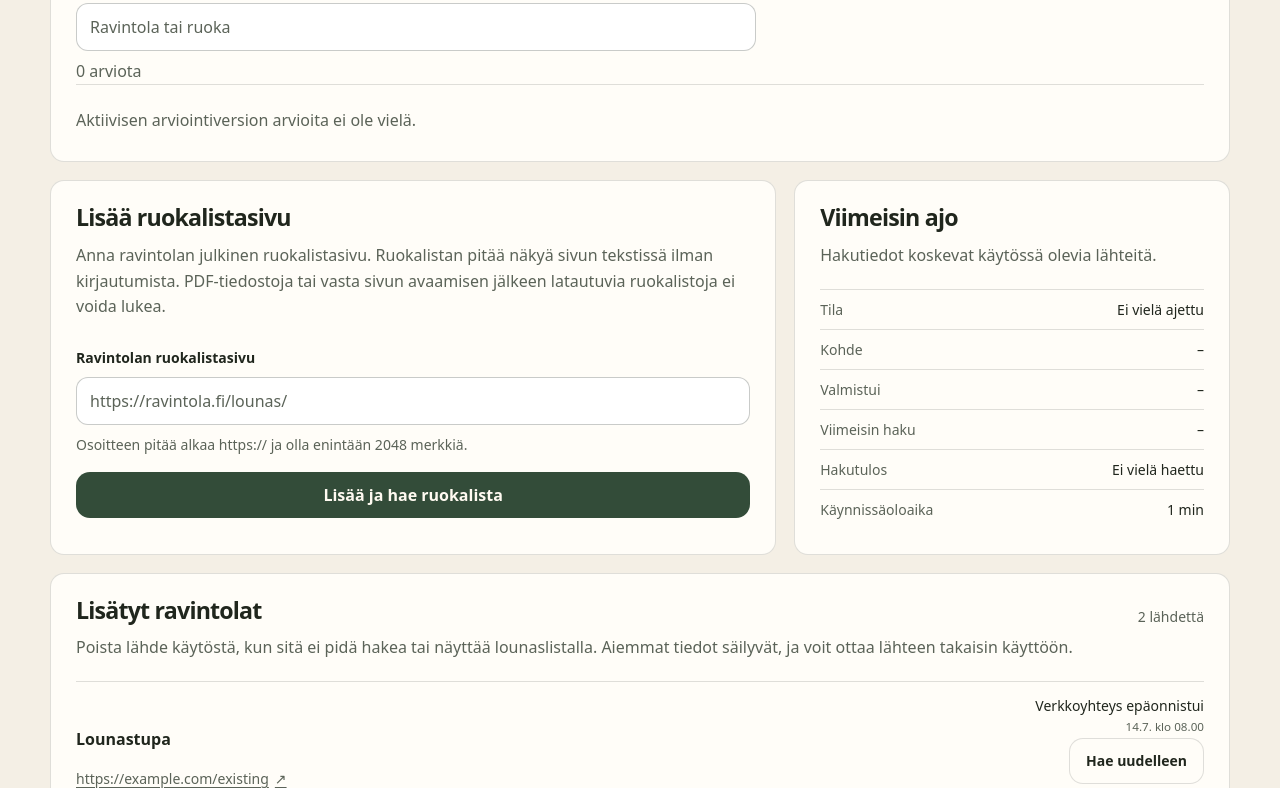
Scenario: admin recovery › retries a source in place without duplicate requests or losing an unrelated draft
(page scrolled)
Type "https://example.com/new-draft" into the field labelled "Ravintolan ruokalistasivu" at coordinates (413, 401), box [76,377,750,425]
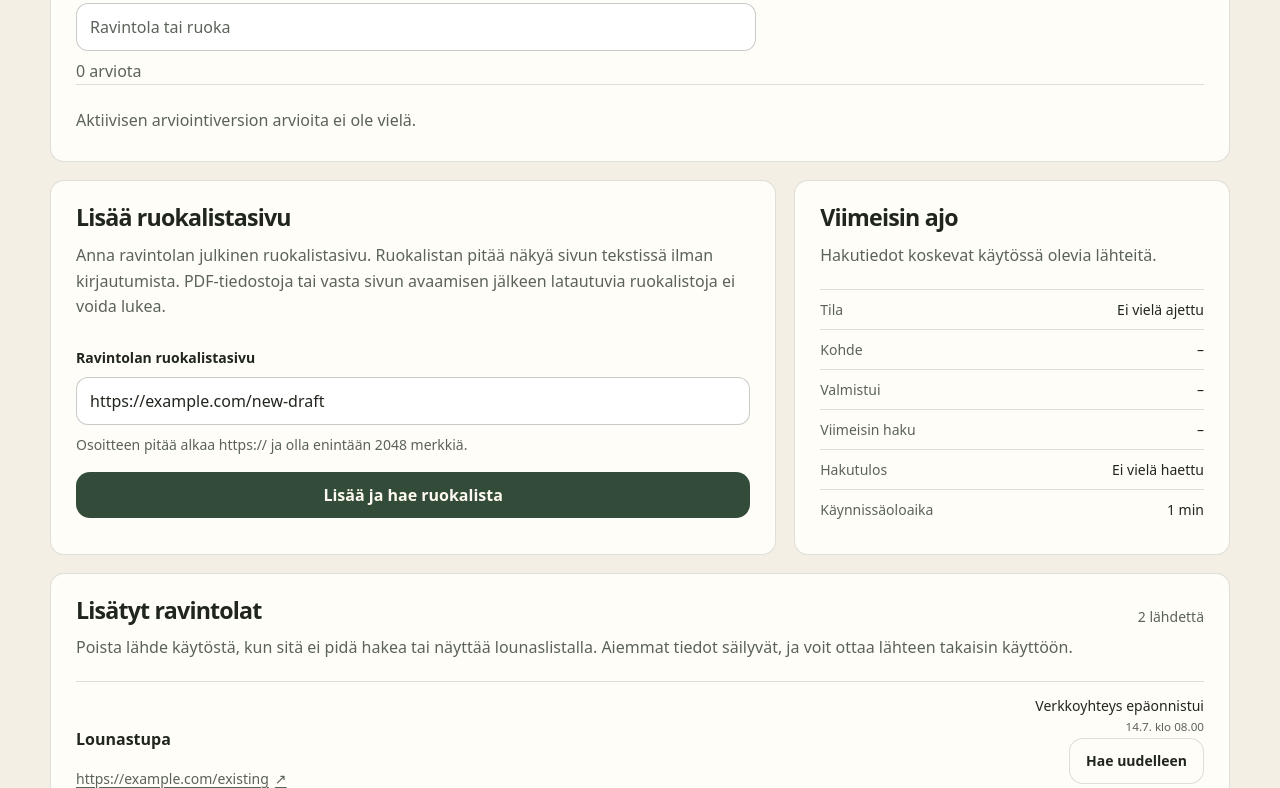
Click the button with aria-label "Hae uudelleen: Lounastupa" at coordinates (1137, 761), box [1069,738,1204,784]
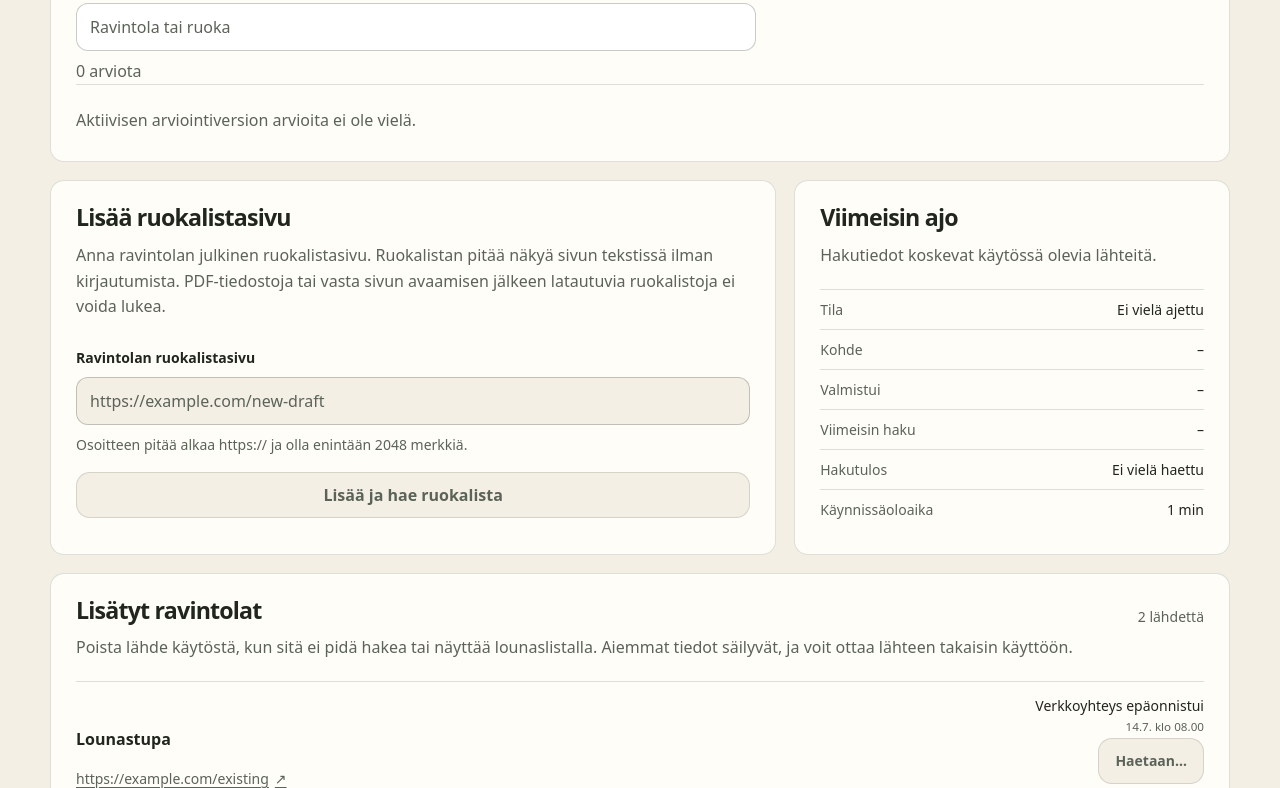
Check: the button with aria-label "Hae uudelleen: Lounastupa" is disabled
Click the button with aria-label "Hae uudelleen: Lounastupa" at coordinates (1151, 761), box [1098,738,1204,784]
(page scrolled)
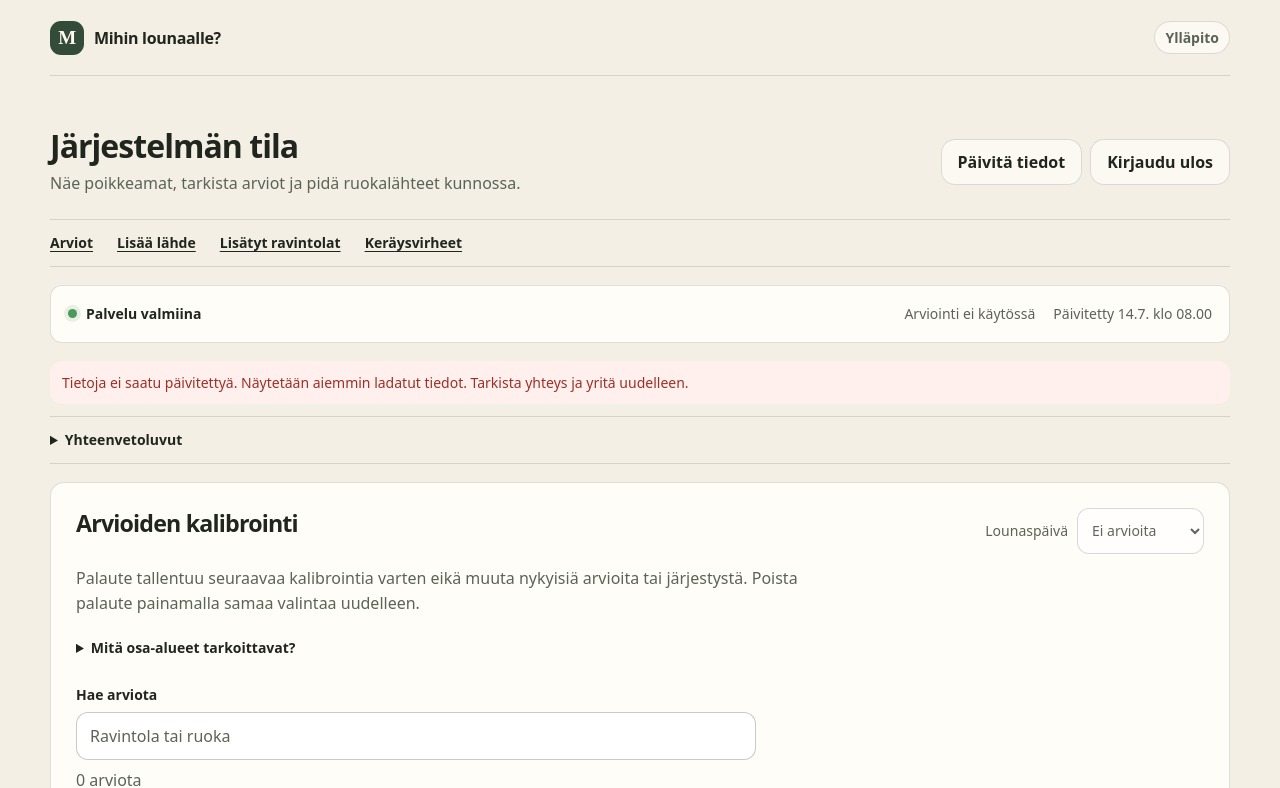
Check: the text "Verkkoyhteys epäonnistui" is not shown
Check: the message shows "Näytetään aiemmin ladatut tiedot", box [62,373,689,392]
